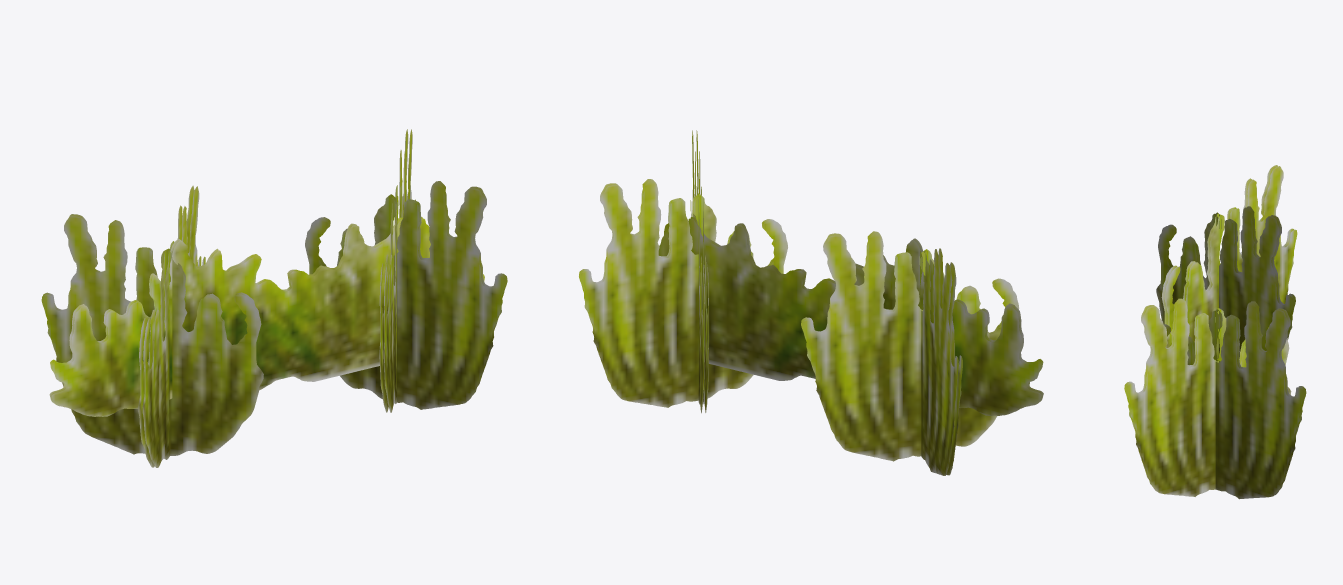
File: Grass2.fbx
3 views of the same model, side by side, from view 1: azimuth 30°, elevation 25°; view 2: azimuth 150°, elevation 25°; view 3: azimuth 270°, elevation 25° (orthographic). The views are drawn at different scales.
Parts seen in each view (by area): view 1: Grass2; view 2: Grass2; view 3: Grass2.
Part boxes in pixels (x1,y1,x2,y2): Grass2: [41, 129, 507, 467]; Grass2: [579, 130, 1043, 475]; Grass2: [1124, 165, 1306, 499].
Bounding box in the file's own units: 511 × 416 × 231.
1 material, 1 textured.
